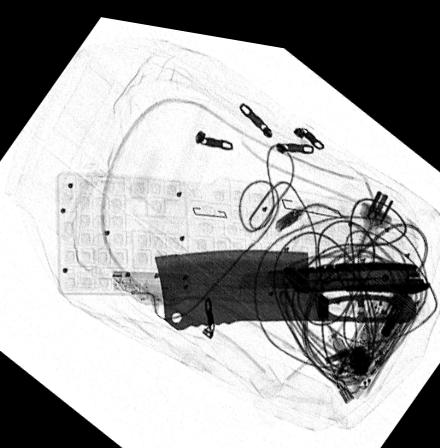Knife: (153, 240, 417, 326), (236, 248, 432, 282)
